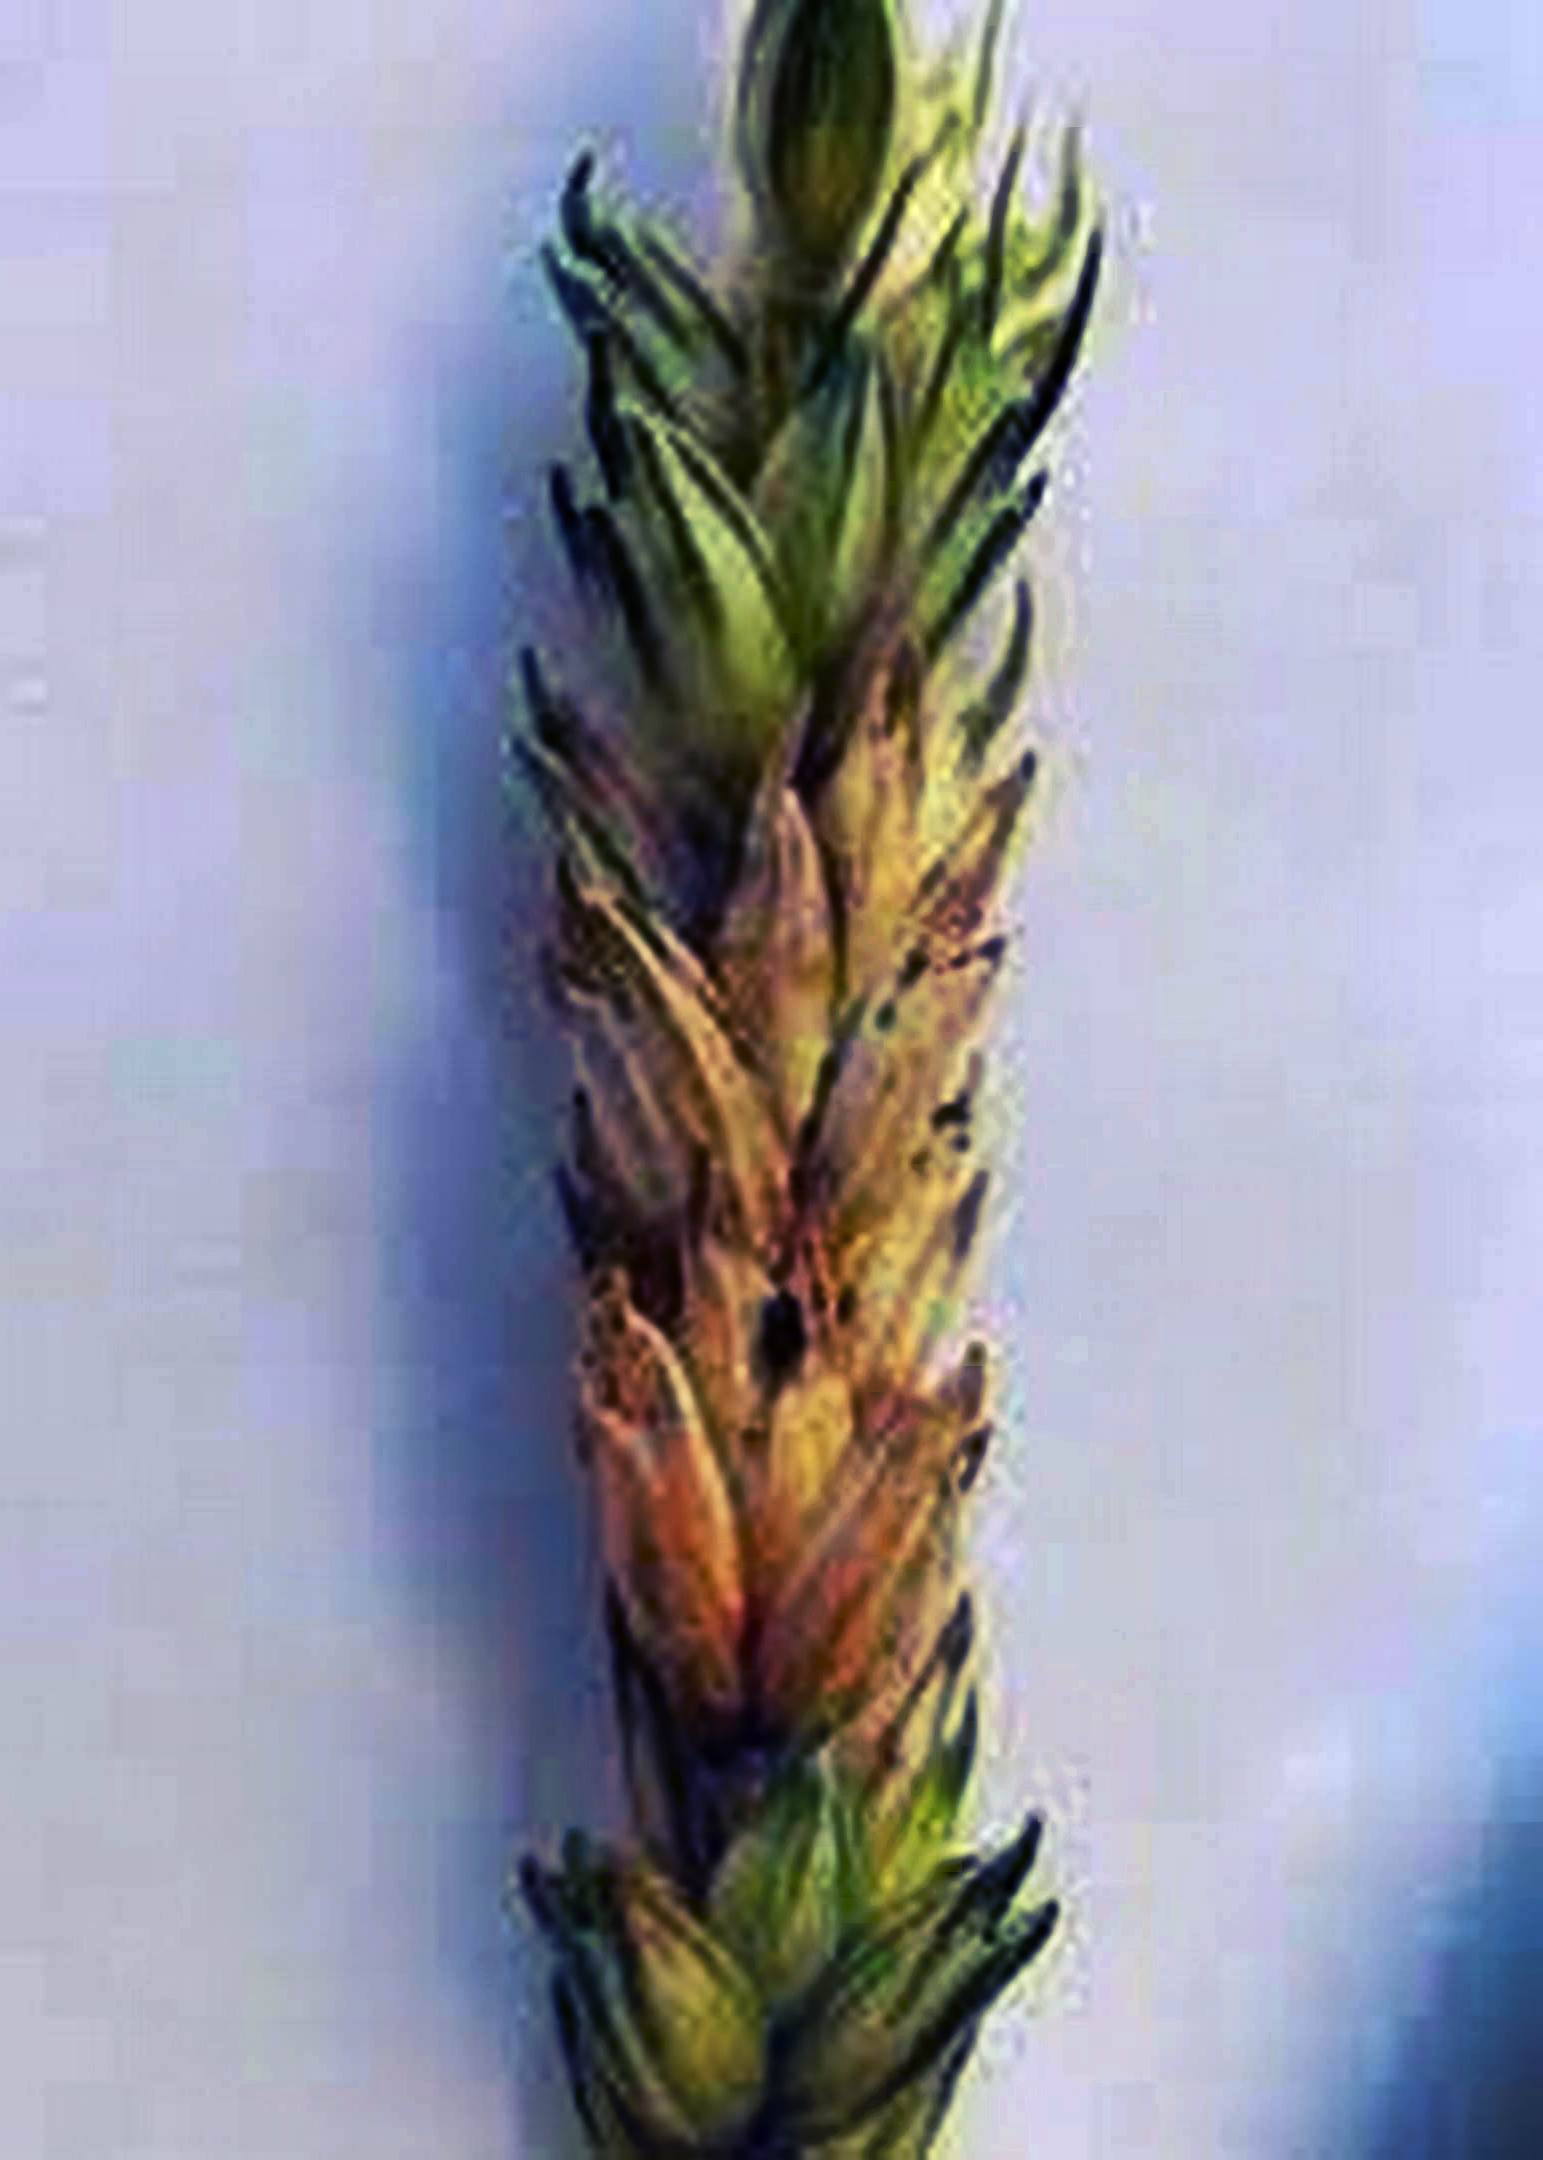Wheat scab: (449, 88, 1141, 2105)
